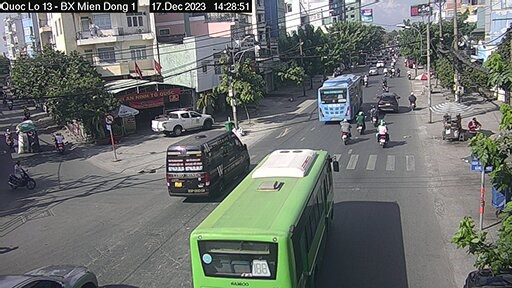bus: (238, 149, 331, 285), (319, 72, 360, 119)
car: (166, 129, 247, 194), (151, 108, 220, 136), (380, 91, 400, 116), (369, 66, 378, 78)
motorbike: (371, 119, 393, 150), (339, 116, 353, 145)
